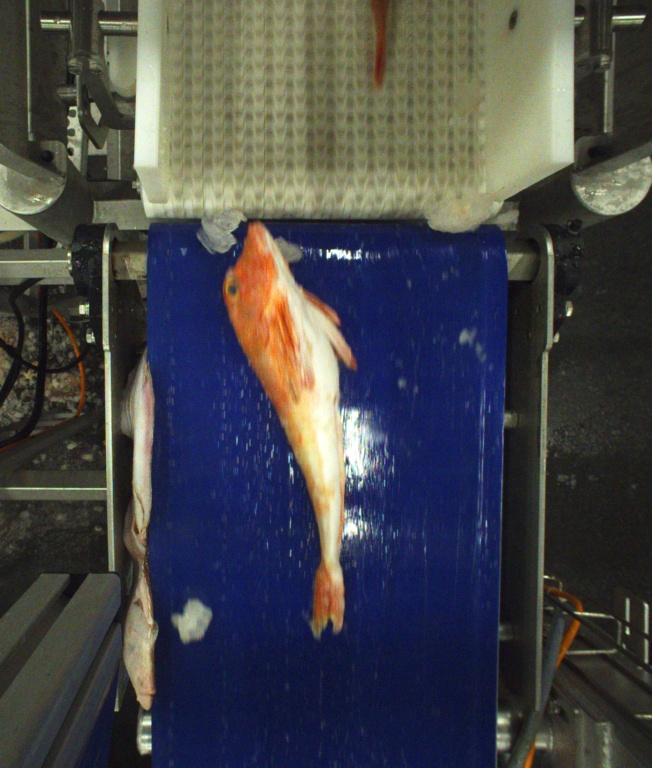GUU: (219, 224, 356, 635)
